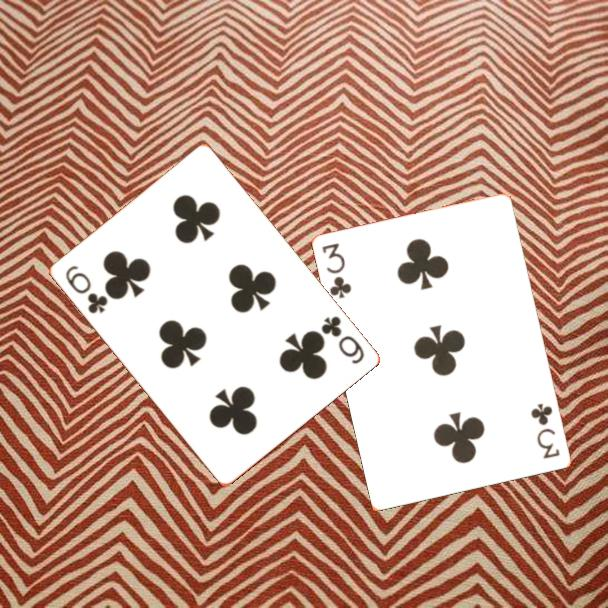c03: (319, 240, 355, 302), (528, 400, 563, 462)
c06: (317, 312, 367, 367), (61, 262, 110, 317)
